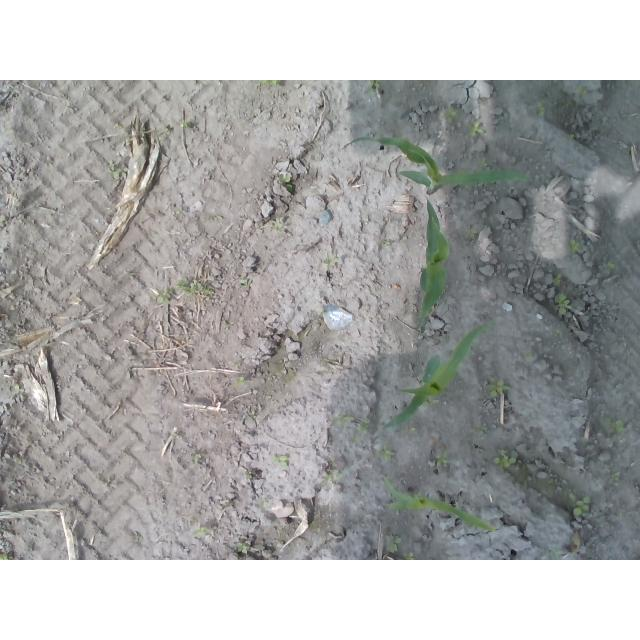Maize: (386, 320, 497, 431), (338, 135, 534, 194), (383, 476, 498, 533), (419, 198, 451, 324)
Weeds: (0, 373, 20, 416), (176, 278, 209, 295), (486, 379, 511, 401), (570, 493, 591, 516), (353, 419, 371, 444), (495, 455, 518, 469), (156, 288, 176, 304), (106, 161, 122, 180), (278, 176, 295, 193), (558, 293, 571, 315), (385, 535, 400, 554), (608, 419, 626, 434), (320, 255, 336, 271), (469, 123, 486, 138), (440, 109, 457, 124), (375, 447, 393, 461), (434, 456, 452, 470), (272, 453, 288, 467), (336, 415, 352, 428), (534, 102, 546, 117), (368, 81, 383, 92), (544, 550, 560, 560), (195, 527, 210, 537), (609, 470, 620, 482), (577, 84, 588, 96), (274, 222, 284, 235), (552, 273, 562, 286), (262, 80, 283, 86), (326, 472, 338, 482), (571, 238, 580, 251), (237, 542, 249, 551), (550, 330, 562, 339), (403, 552, 415, 560), (236, 376, 245, 385), (239, 277, 247, 287)
